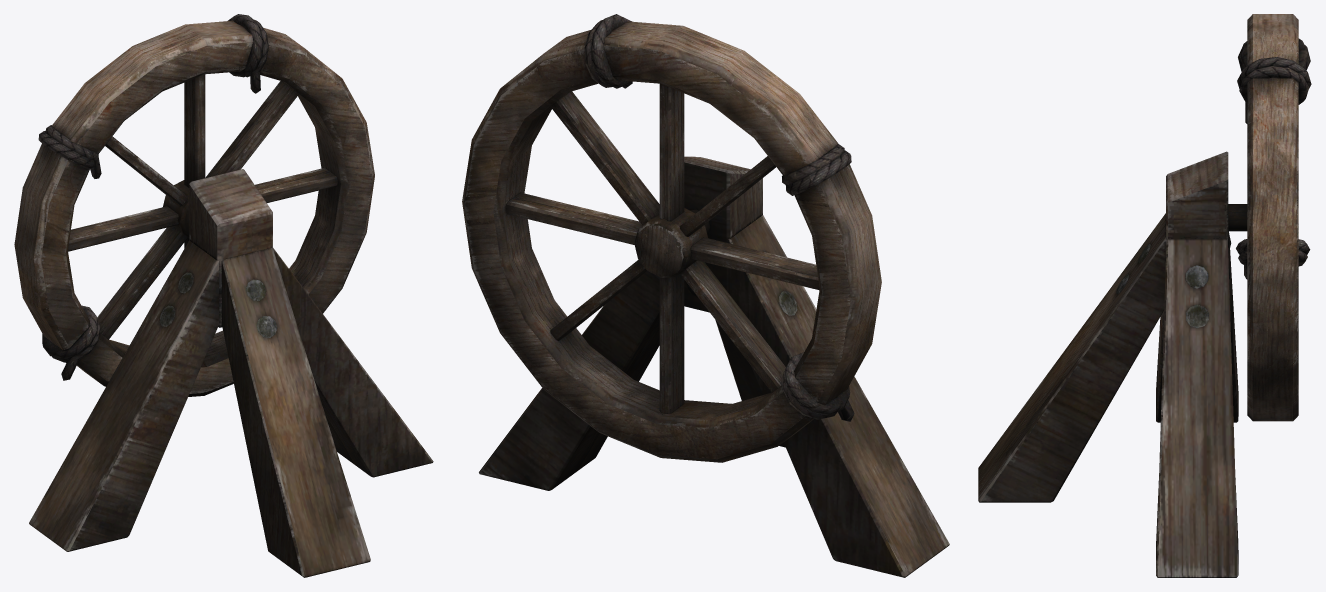
The model's file is torture_wheel.dae.
3 views of the same model, side by side, from view 1: azimuth 30°, elevation 25°; view 2: azimuth 150°, elevation 25°; view 3: azimuth 270°, elevation 25° (orthographic). The views are drawn at different scales.
Visible parts, largest first — view 1: polySurface33, polySurface28; view 2: polySurface28, polySurface33; view 3: polySurface33, polySurface28.
Boxes of the visible parts, box(x1,y1,x2,y2) form: polySurface33: box(29, 169, 433, 577); polySurface28: box(14, 14, 374, 396); polySurface28: box(462, 14, 881, 462); polySurface33: box(479, 156, 949, 577); polySurface33: box(978, 151, 1247, 577); polySurface28: box(1236, 14, 1311, 421).
Size of the model in its own units: 1.17 by 1.33 by 0.882.
